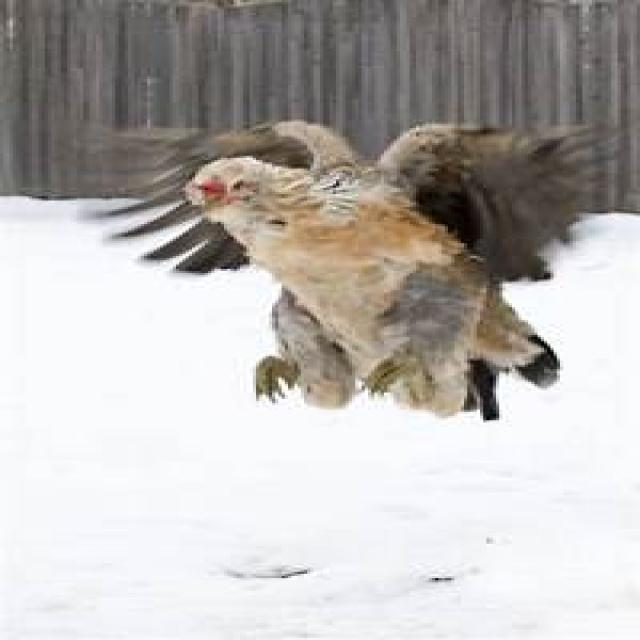hen: (182, 122, 589, 422)
